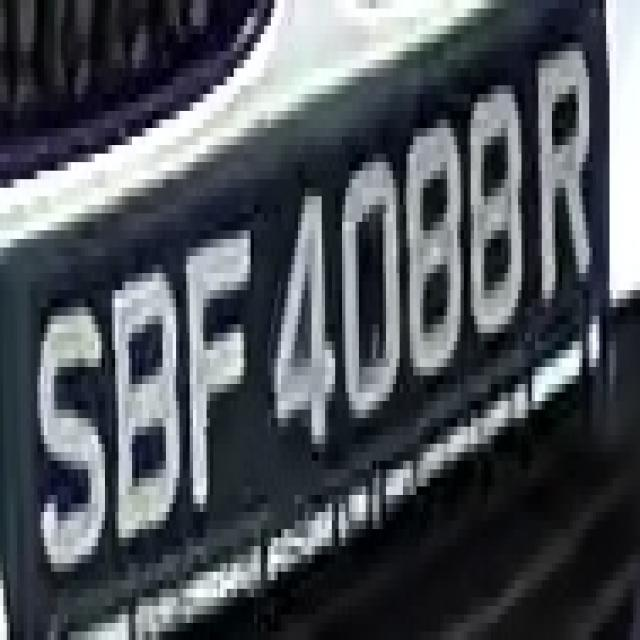0: (332, 137, 410, 435)
4: (244, 179, 338, 461)
8: (454, 68, 532, 367), (396, 111, 464, 401)
B: (112, 248, 186, 546)
F: (186, 205, 261, 520)
R: (525, 26, 603, 307)
S: (23, 282, 112, 580)
